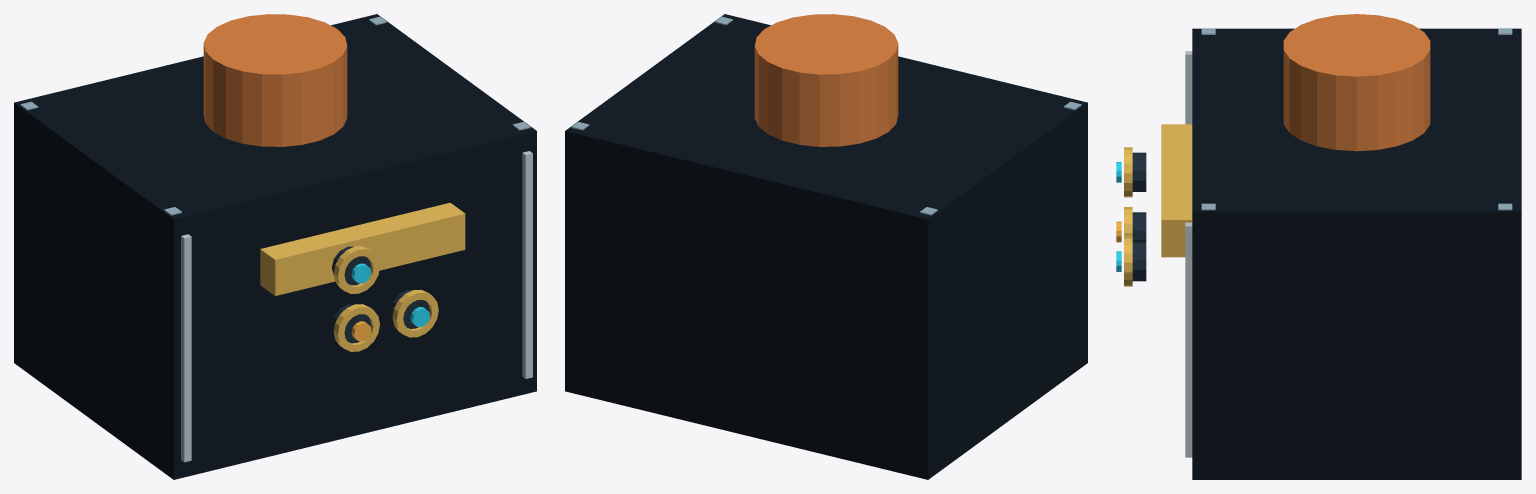
File: 44_L83_BatteryIsolationContactor.fbx
The picture shows the model from 3 angles, left to right: view 1: azimuth 30°, elevation 25°; view 2: azimuth 150°, elevation 25°; view 3: azimuth 270°, elevation 25°; orthographic projection. The views are drawn at different scales.
Parts seen in each view (by area): view 1: BatteryIsolationContactor, BatteryIsolationContactor_Part_0008; view 2: BatteryIsolationContactor; view 3: BatteryIsolationContactor, BatteryIsolationContactor_Part_0008.
Part boxes in pixels (x1,y1,x2,y2): BatteryIsolationContactor: (14,14,536,479); BatteryIsolationContactor_Part_0008: (260,202,465,295); BatteryIsolationContactor: (565,14,1087,479); BatteryIsolationContactor: (1116,14,1521,479); BatteryIsolationContactor_Part_0008: (1161,124,1192,257).
Size of the model in its own units: 105 by 92 by 98.45.
